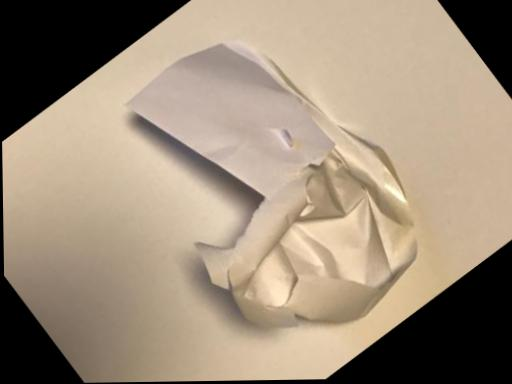paper: (23, 0, 511, 381)
